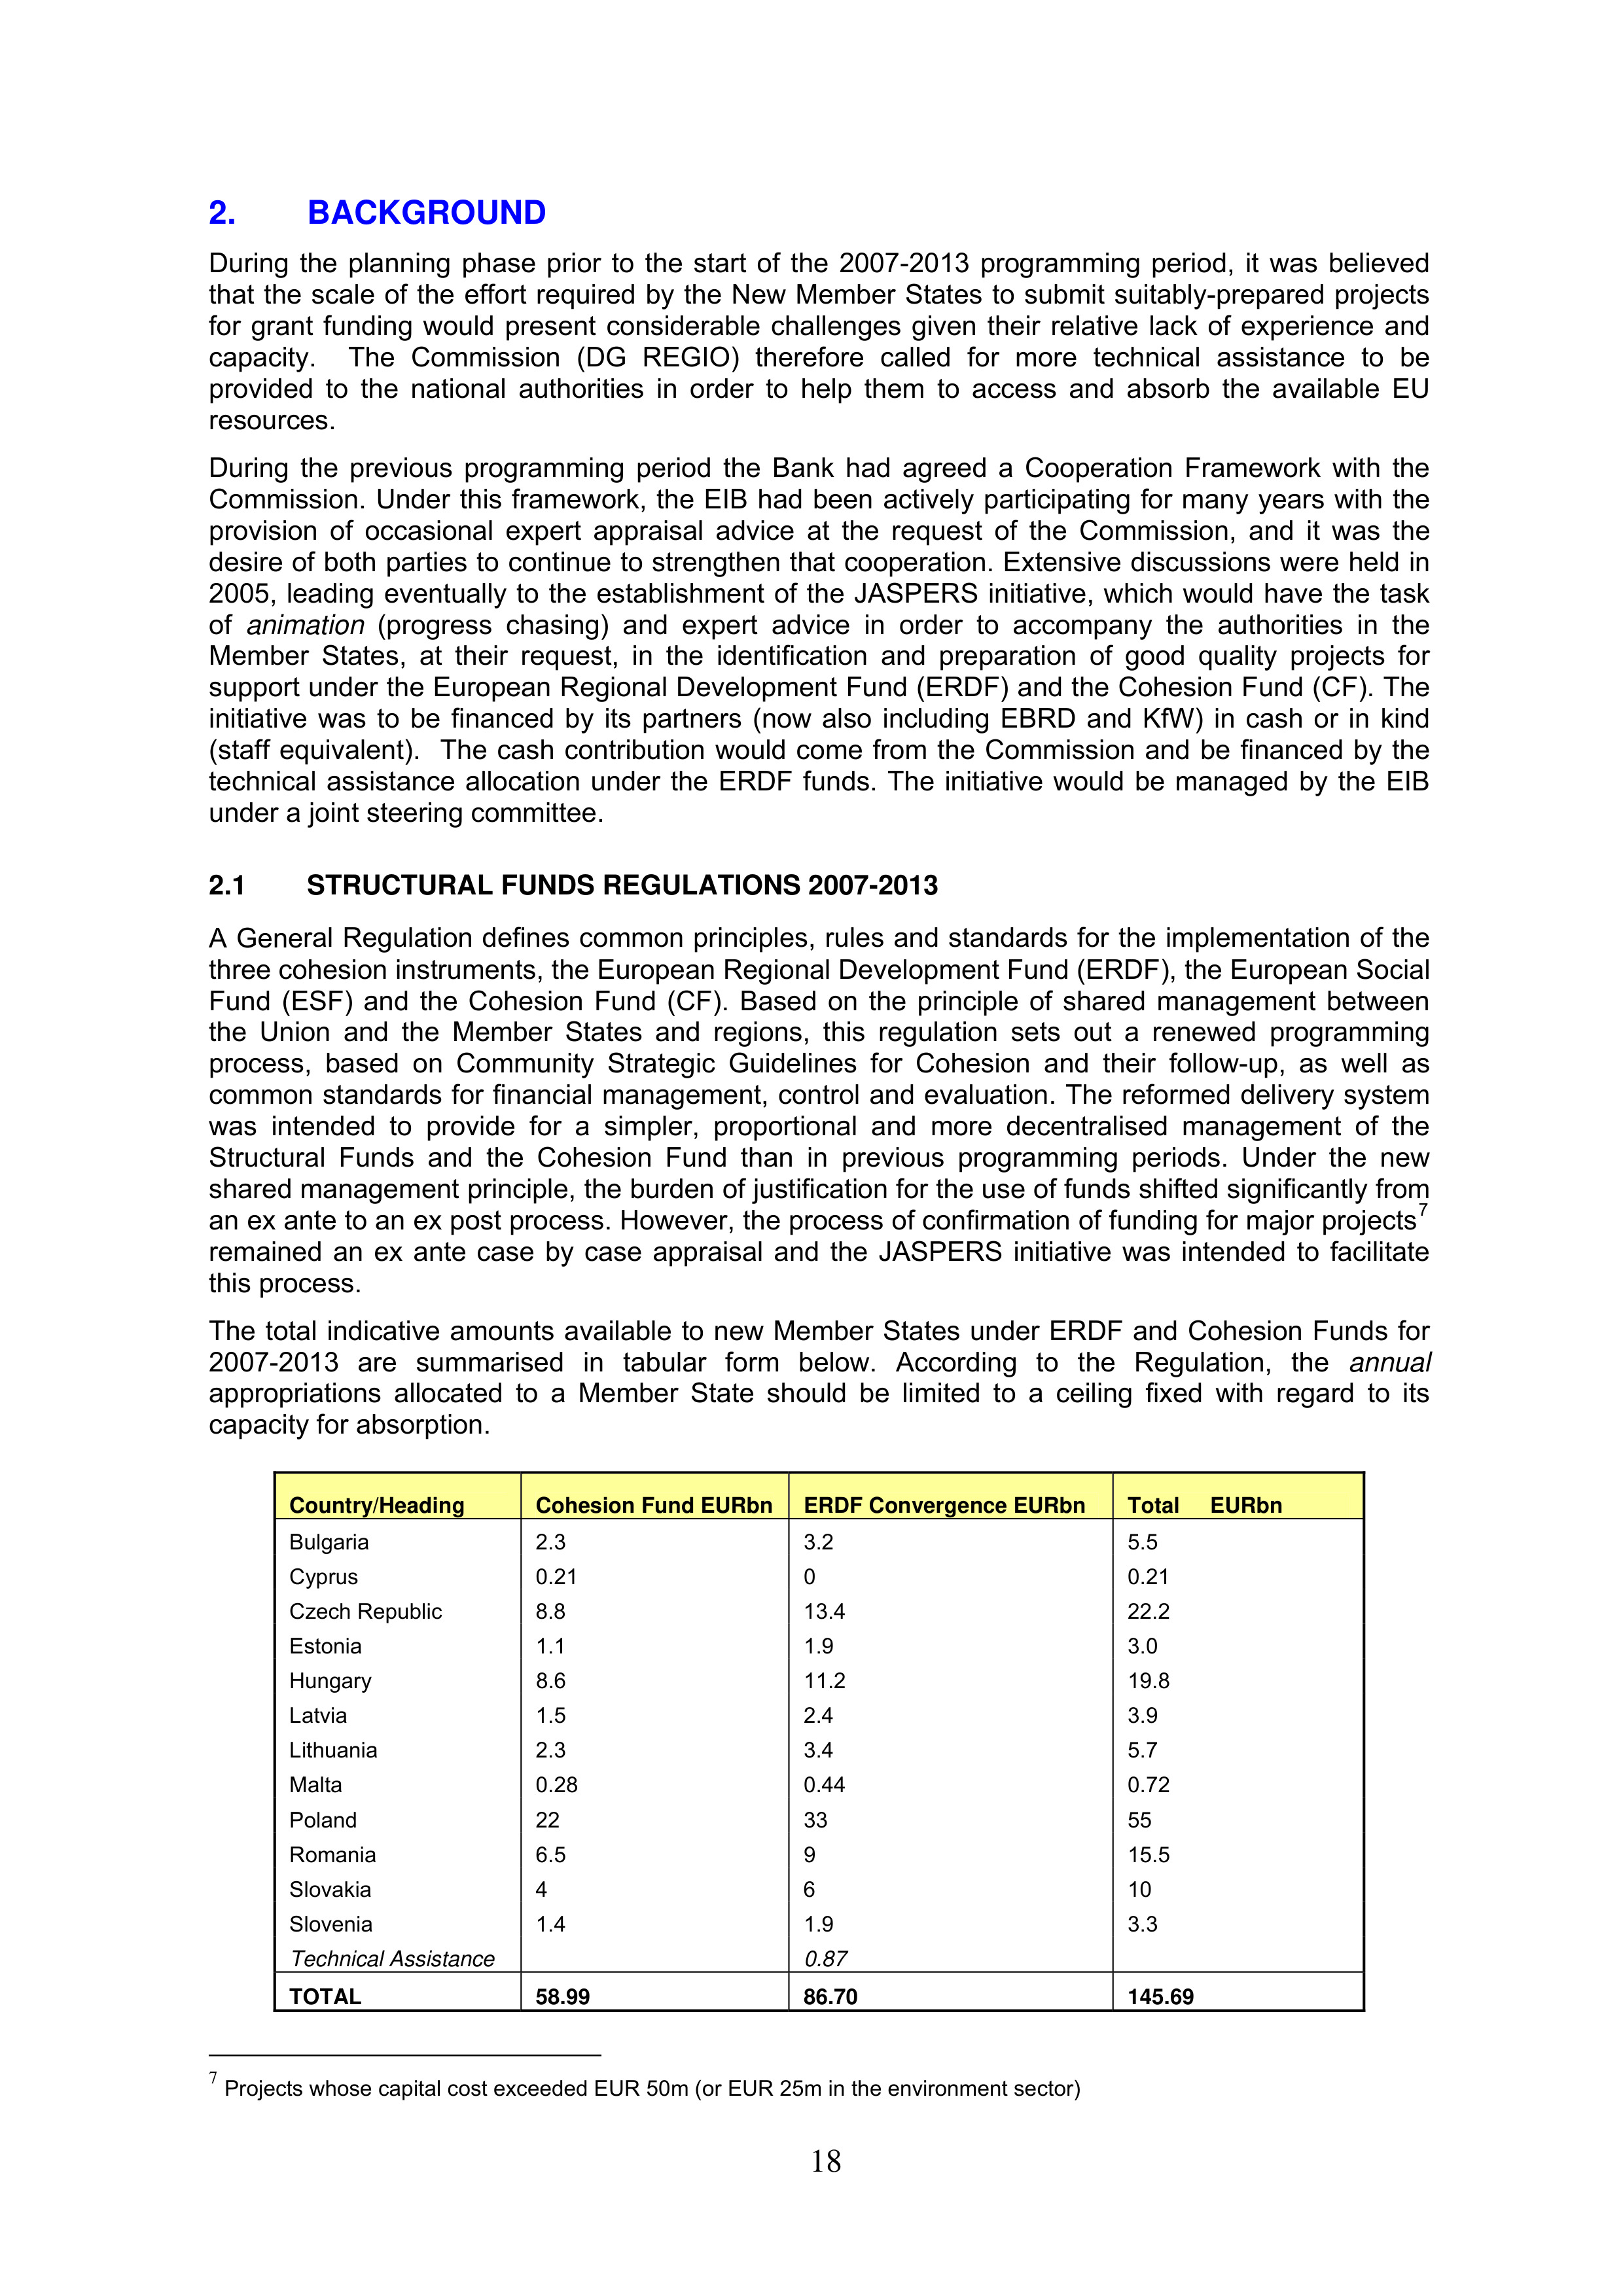table: (290, 1490, 1282, 2012)
